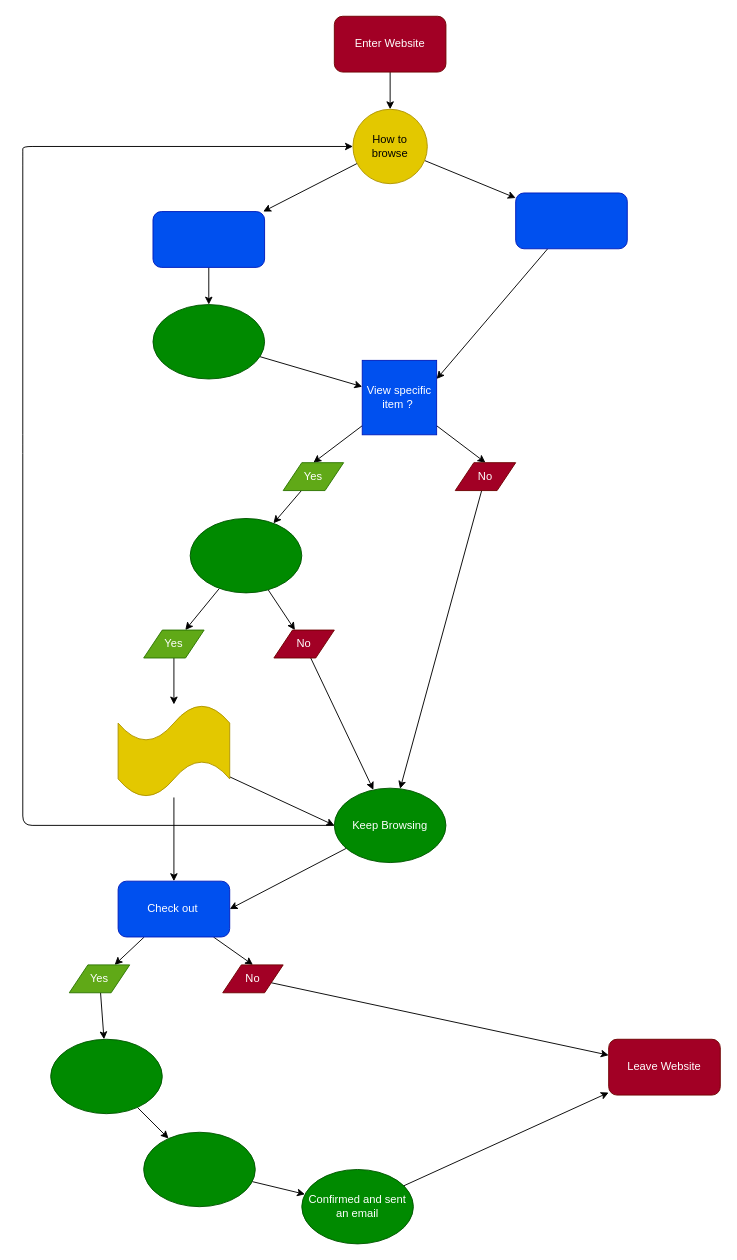
The diagram is 737 pixels wide and 1260 high, and some of its shapes have lost their labels. Here are the shapes that lost their labels. From the top down, the centre of each, then its label:
At (x=208, y=239): "Search for item".
At (x=571, y=220): "Browse the product page".
At (x=208, y=341): "input option".
At (x=245, y=555): "Add to cart".
At (x=173, y=750): "Added to cart".
At (x=106, y=1076): "View Cart".
At (x=199, y=1169): "View Payment".
